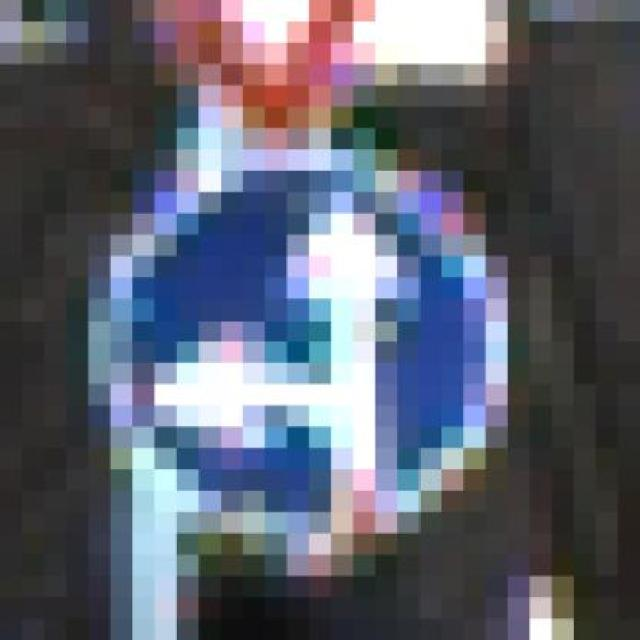Go straight or turn left: (79, 129, 542, 576)
